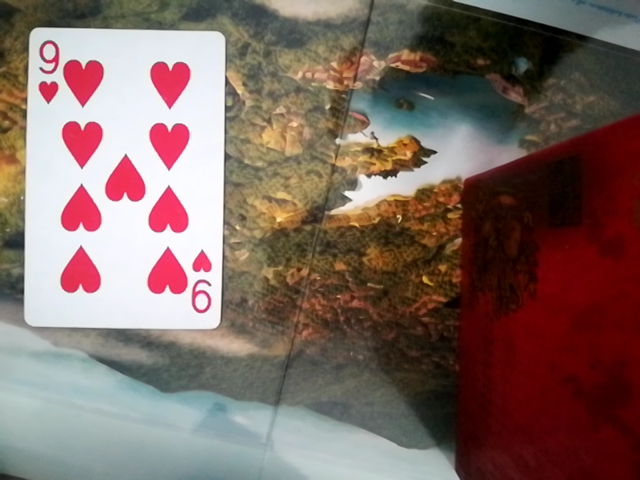hx 9: (17, 23, 229, 335)
